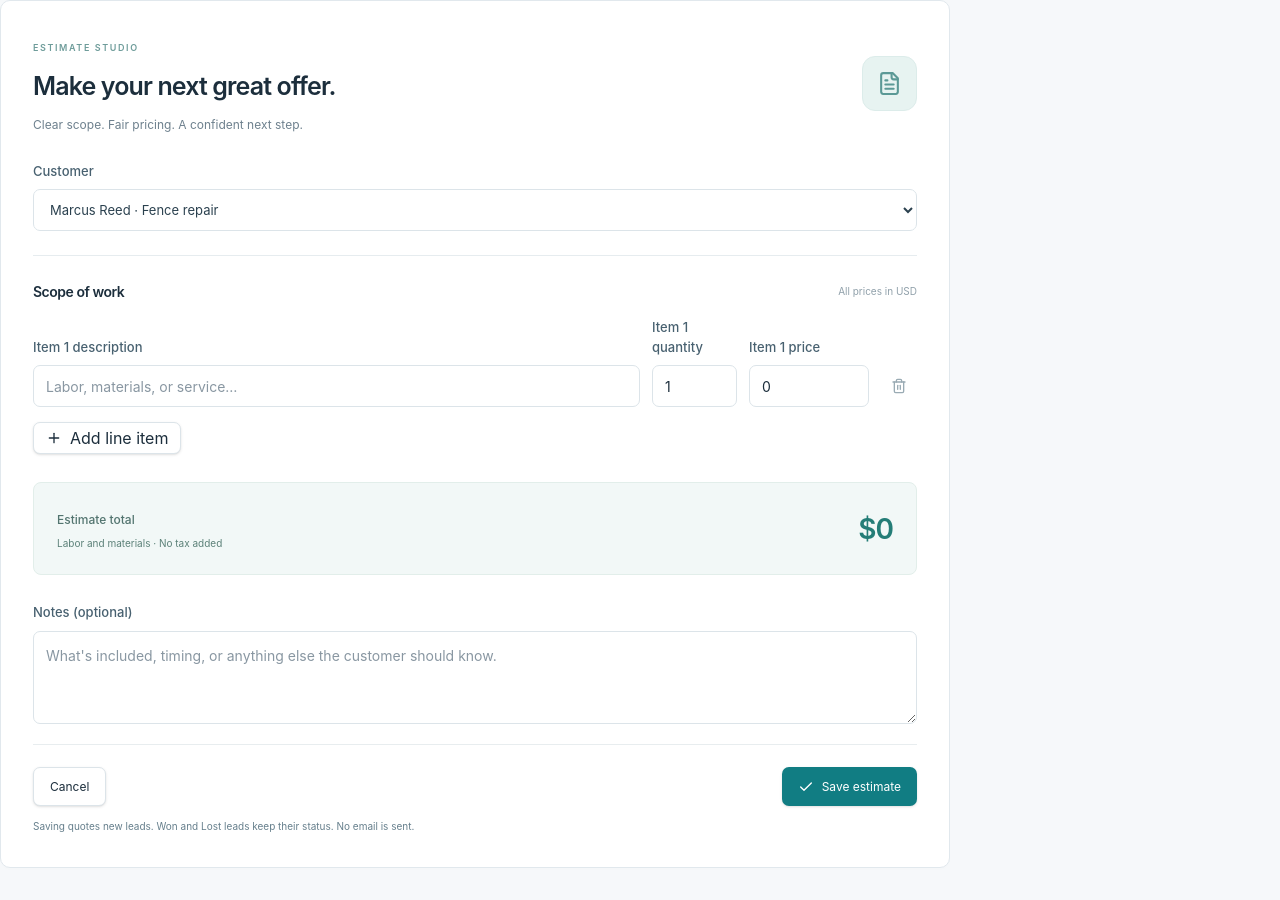
Test: blocks zero quantities
In the field labelled "Item 1 description": {"x": 336, "y": 386} top-left (33, 365), bottom-right (640, 407), type "Paint"
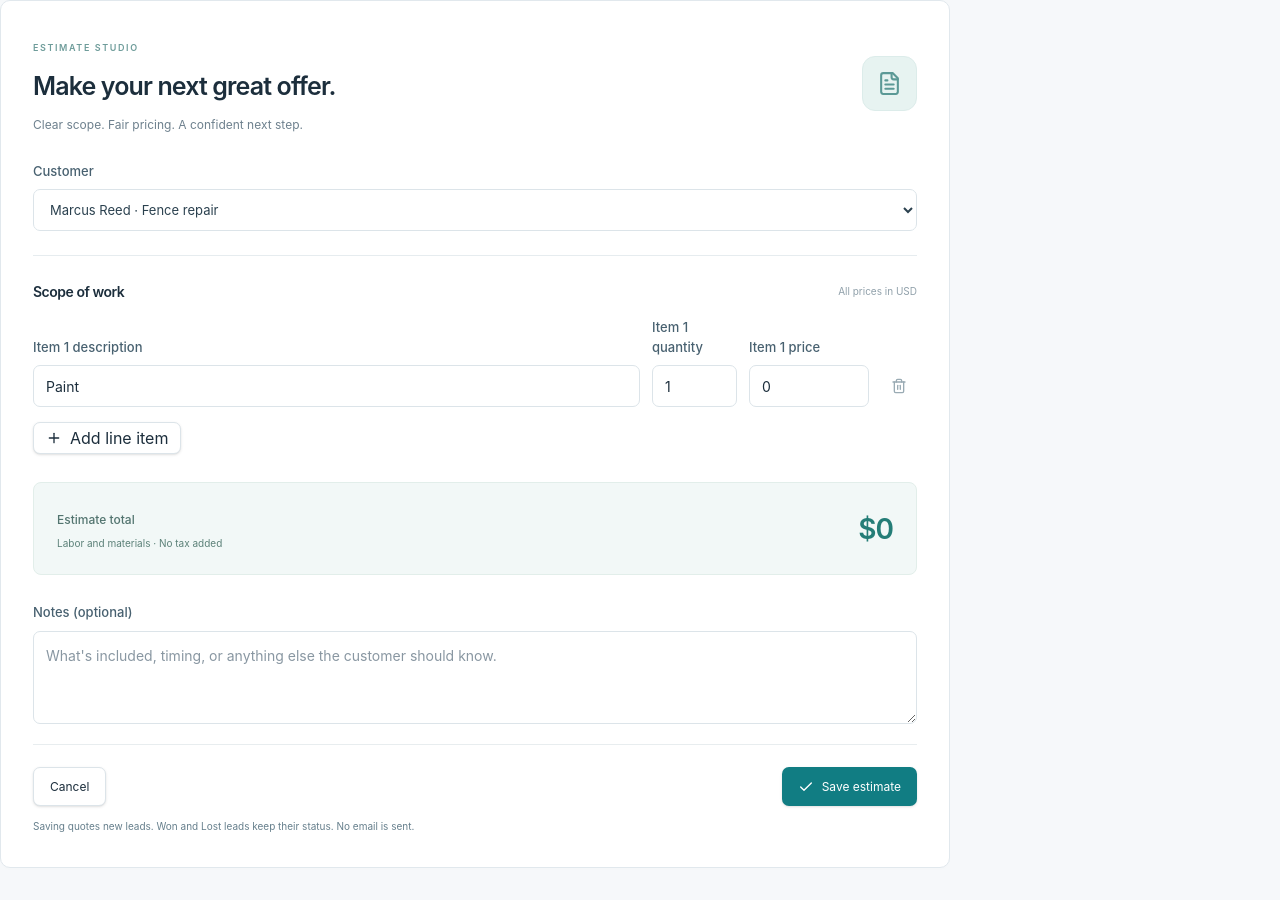
Replace the text in the number field labelled "Item 1 quantity" with "0": {"x": 694, "y": 386} top-left (652, 365), bottom-right (737, 407)
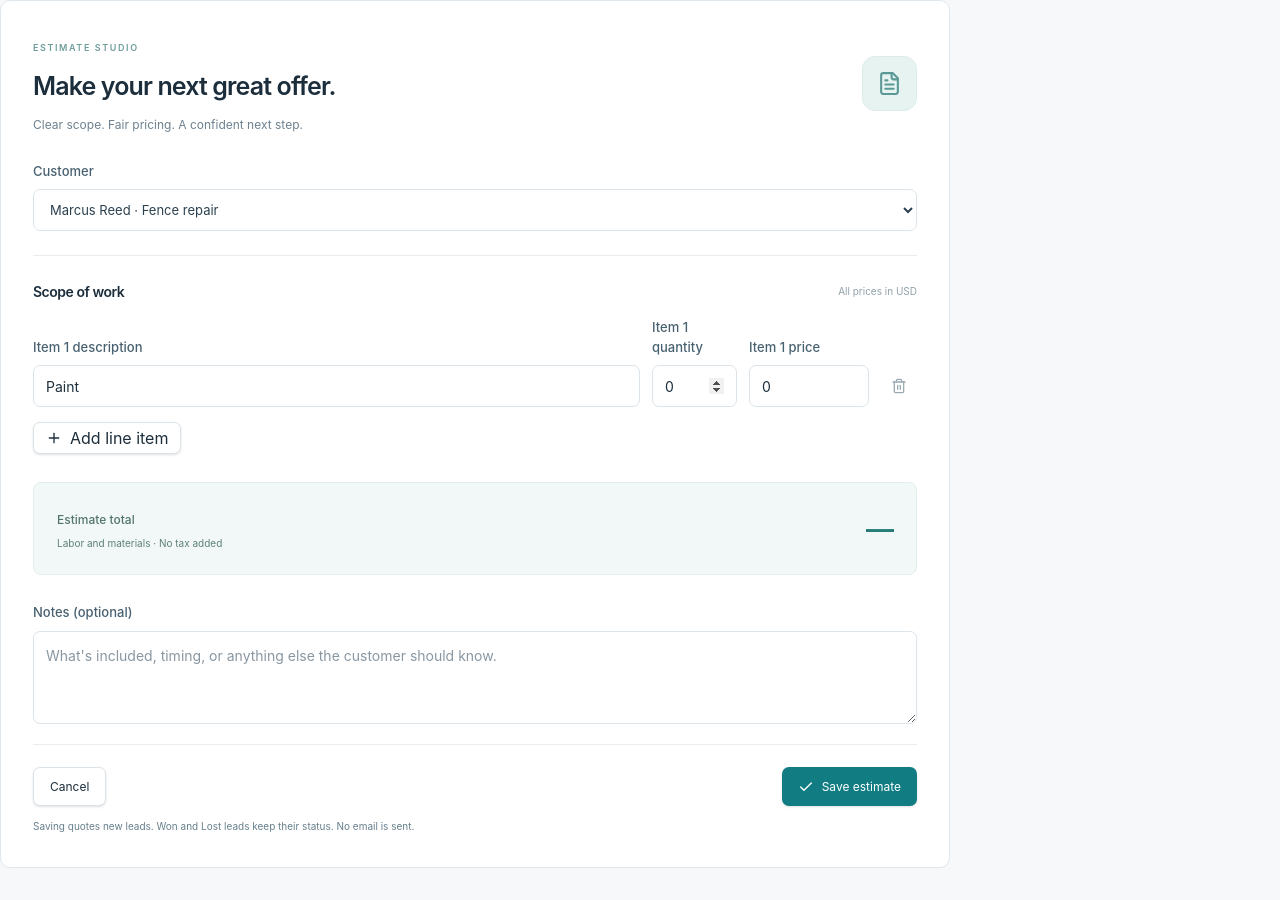
Click the button "Save estimate": {"x": 849, "y": 787} top-left (782, 767), bottom-right (917, 806)
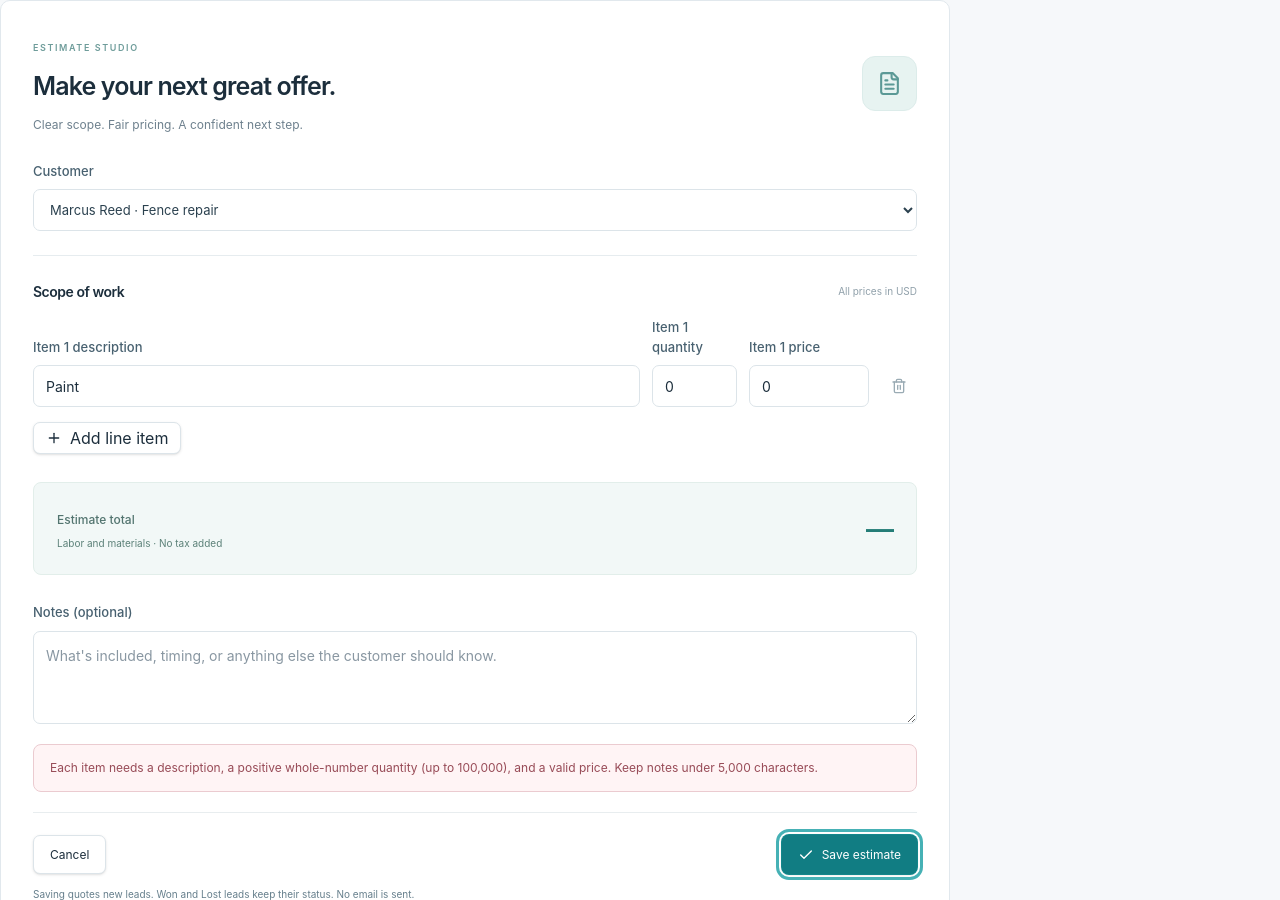
Result: the message is shown at top-left (33, 744), bottom-right (917, 792)
